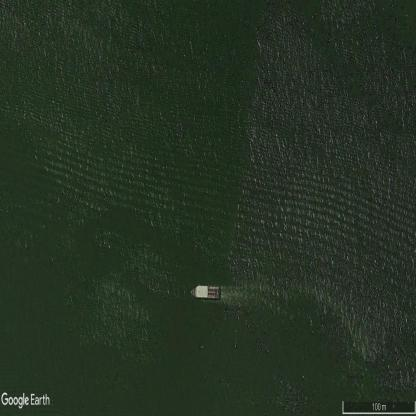ship: (190, 285, 221, 302)
